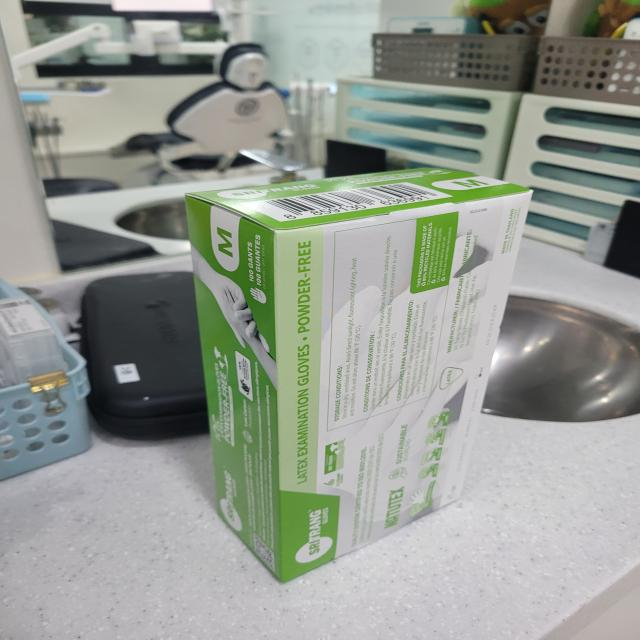glove: (143, 155, 547, 593)
